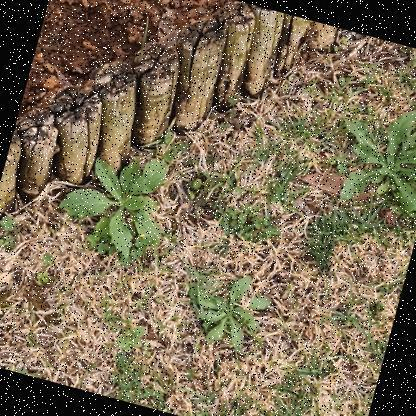Weeds: (51, 139, 178, 265), (324, 95, 415, 226), (179, 264, 279, 354), (115, 316, 146, 352)
